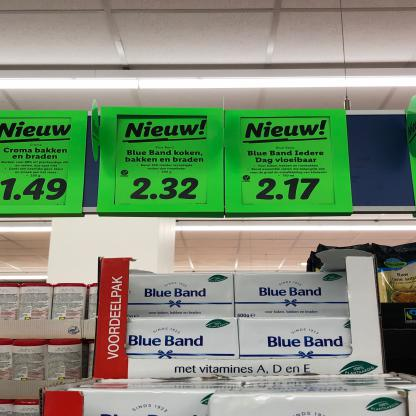prtg: (241, 118, 337, 206), (116, 116, 208, 206), (1, 119, 72, 207)
